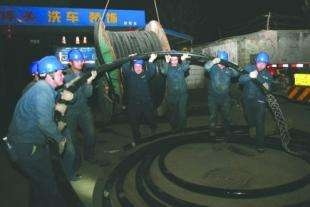blue: (37, 54, 64, 87), (67, 48, 84, 70), (254, 51, 269, 73), (131, 57, 143, 75)
